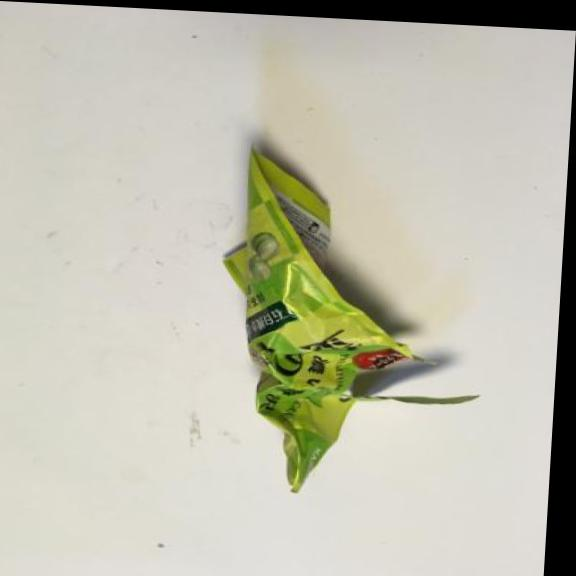Plastik: (199, 142, 505, 513)
